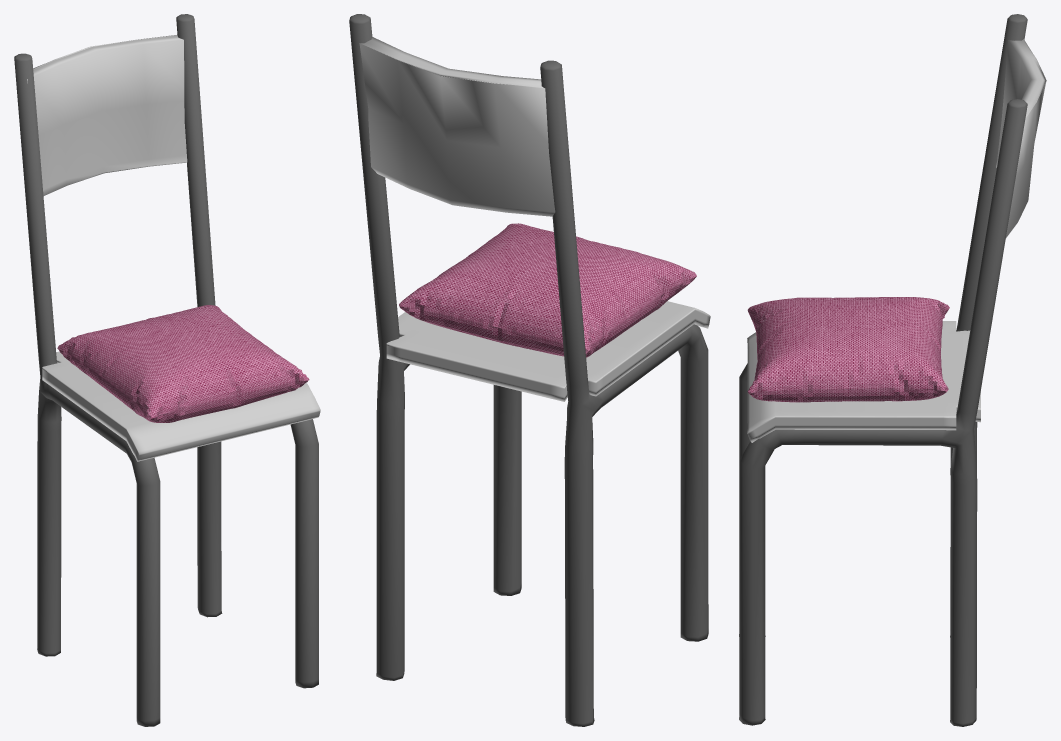
Rendered from anpassung.gltf.
3 renders of one model, left to right at view 1: azimuth 30°, elevation 25°; view 2: azimuth 150°, elevation 25°; view 3: azimuth 270°, elevation 25°, orthographic. The views are drawn at different scales.
Visible parts, largest first — view 1: legs, lehne, kissen, seat; view 2: legs, lehne, kissen, seat; view 3: legs, kissen, seat, lehne.
Part boxes in pixels (bbox=[...]): legs: bbox=[14, 14, 318, 726]; lehne: bbox=[27, 35, 187, 195]; kissen: bbox=[57, 305, 309, 422]; seat: bbox=[42, 351, 320, 461]; legs: bbox=[349, 14, 708, 726]; lehne: bbox=[359, 37, 555, 216]; kissen: bbox=[399, 223, 696, 357]; seat: bbox=[386, 301, 710, 401]; legs: bbox=[739, 14, 1027, 726]; kissen: bbox=[747, 297, 949, 402]; seat: bbox=[747, 321, 980, 442]; lehne: bbox=[996, 39, 1046, 237].
Size of the model in its own units: 2.02 by 6.09 by 2.74.
